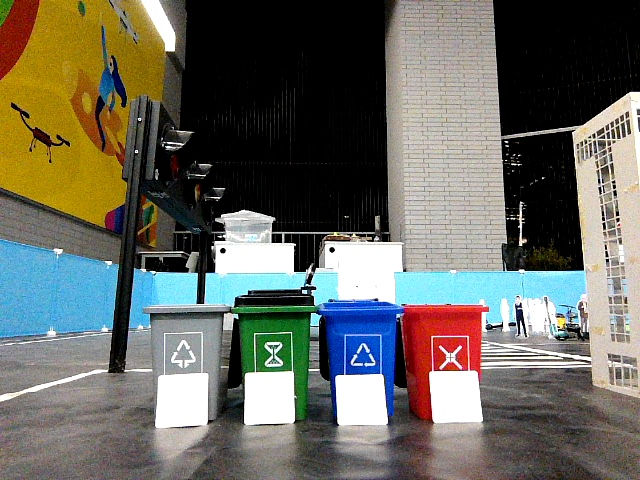blue_open: (325, 298, 394, 371)
green_close: (238, 290, 308, 369)
grey_open: (149, 303, 222, 369)
red_open: (408, 304, 479, 368)
